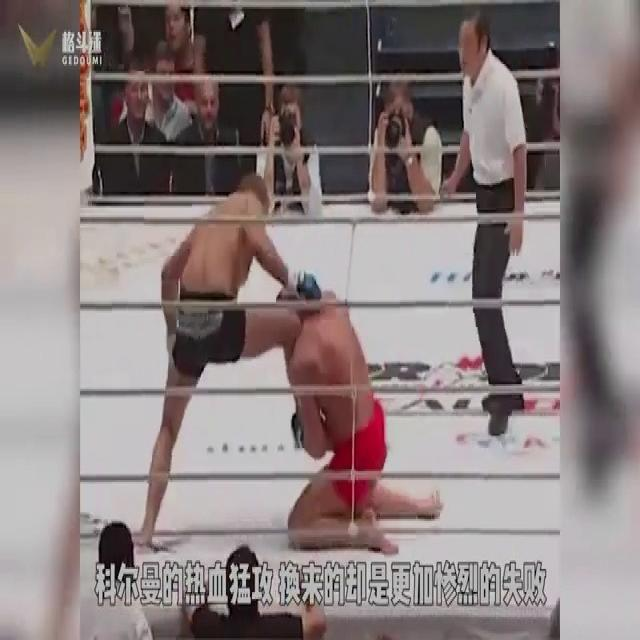fight: (130, 164, 447, 561)
non-fight: (444, 5, 532, 443), (369, 80, 443, 214), (104, 63, 172, 198), (256, 84, 323, 216), (84, 520, 155, 639), (182, 80, 242, 198), (143, 45, 194, 142), (162, 4, 206, 113)
